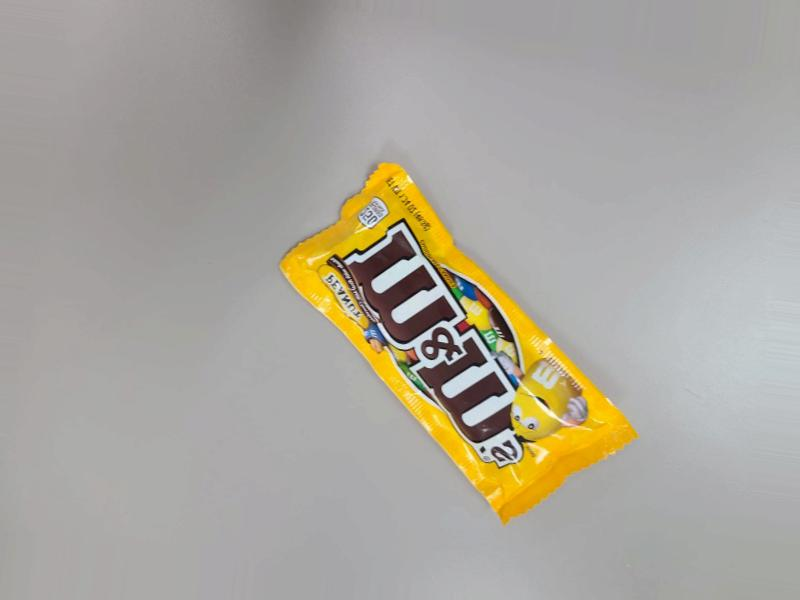m&m: (277, 149, 651, 515)
